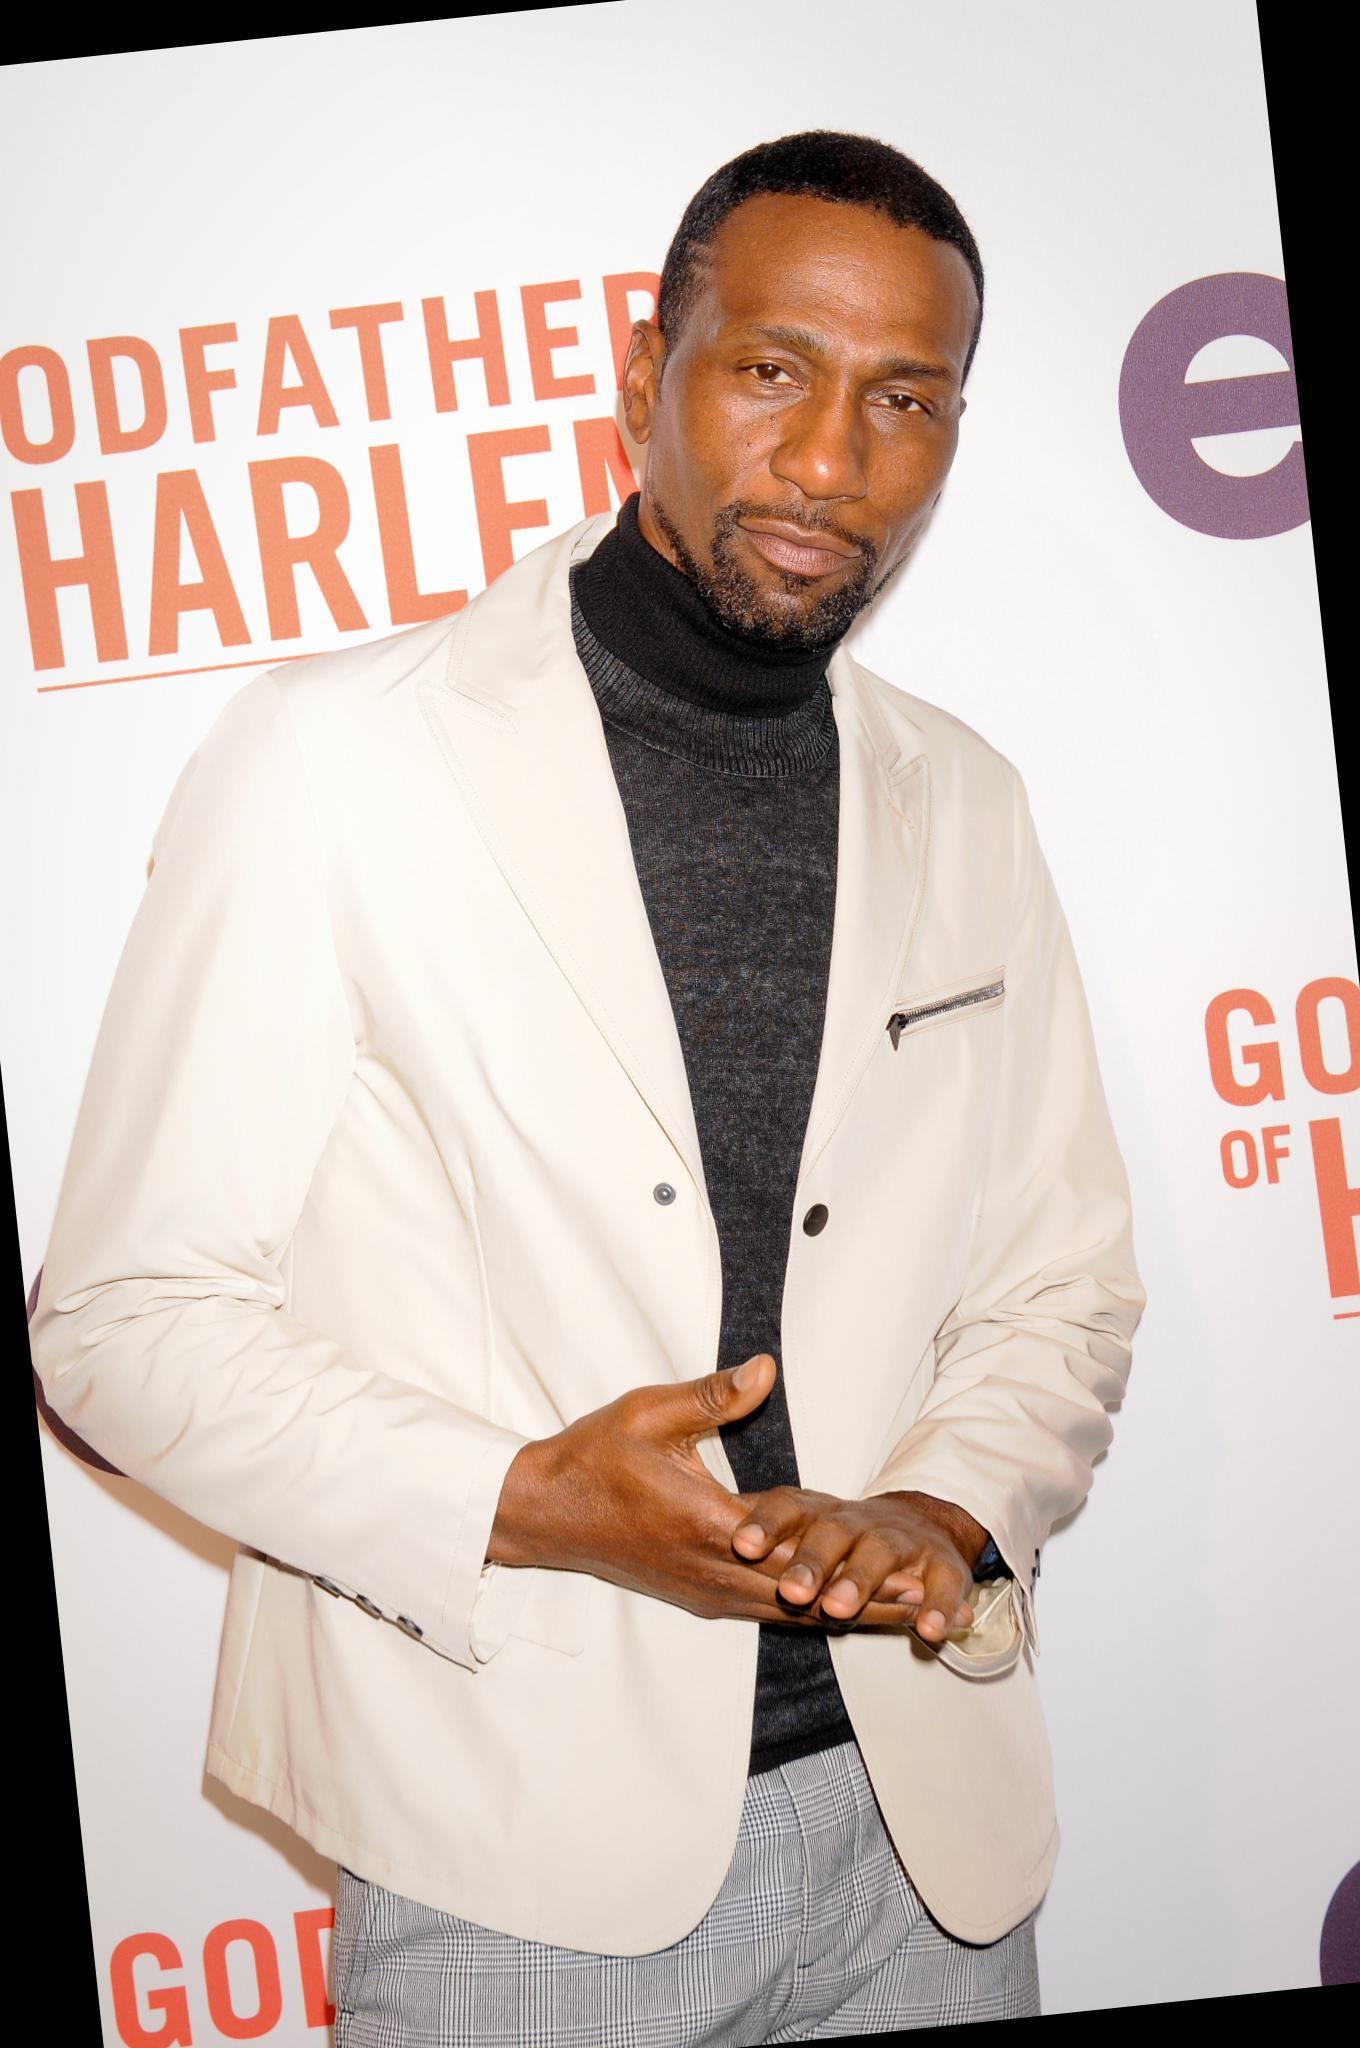Sober: (647, 221, 959, 617)
